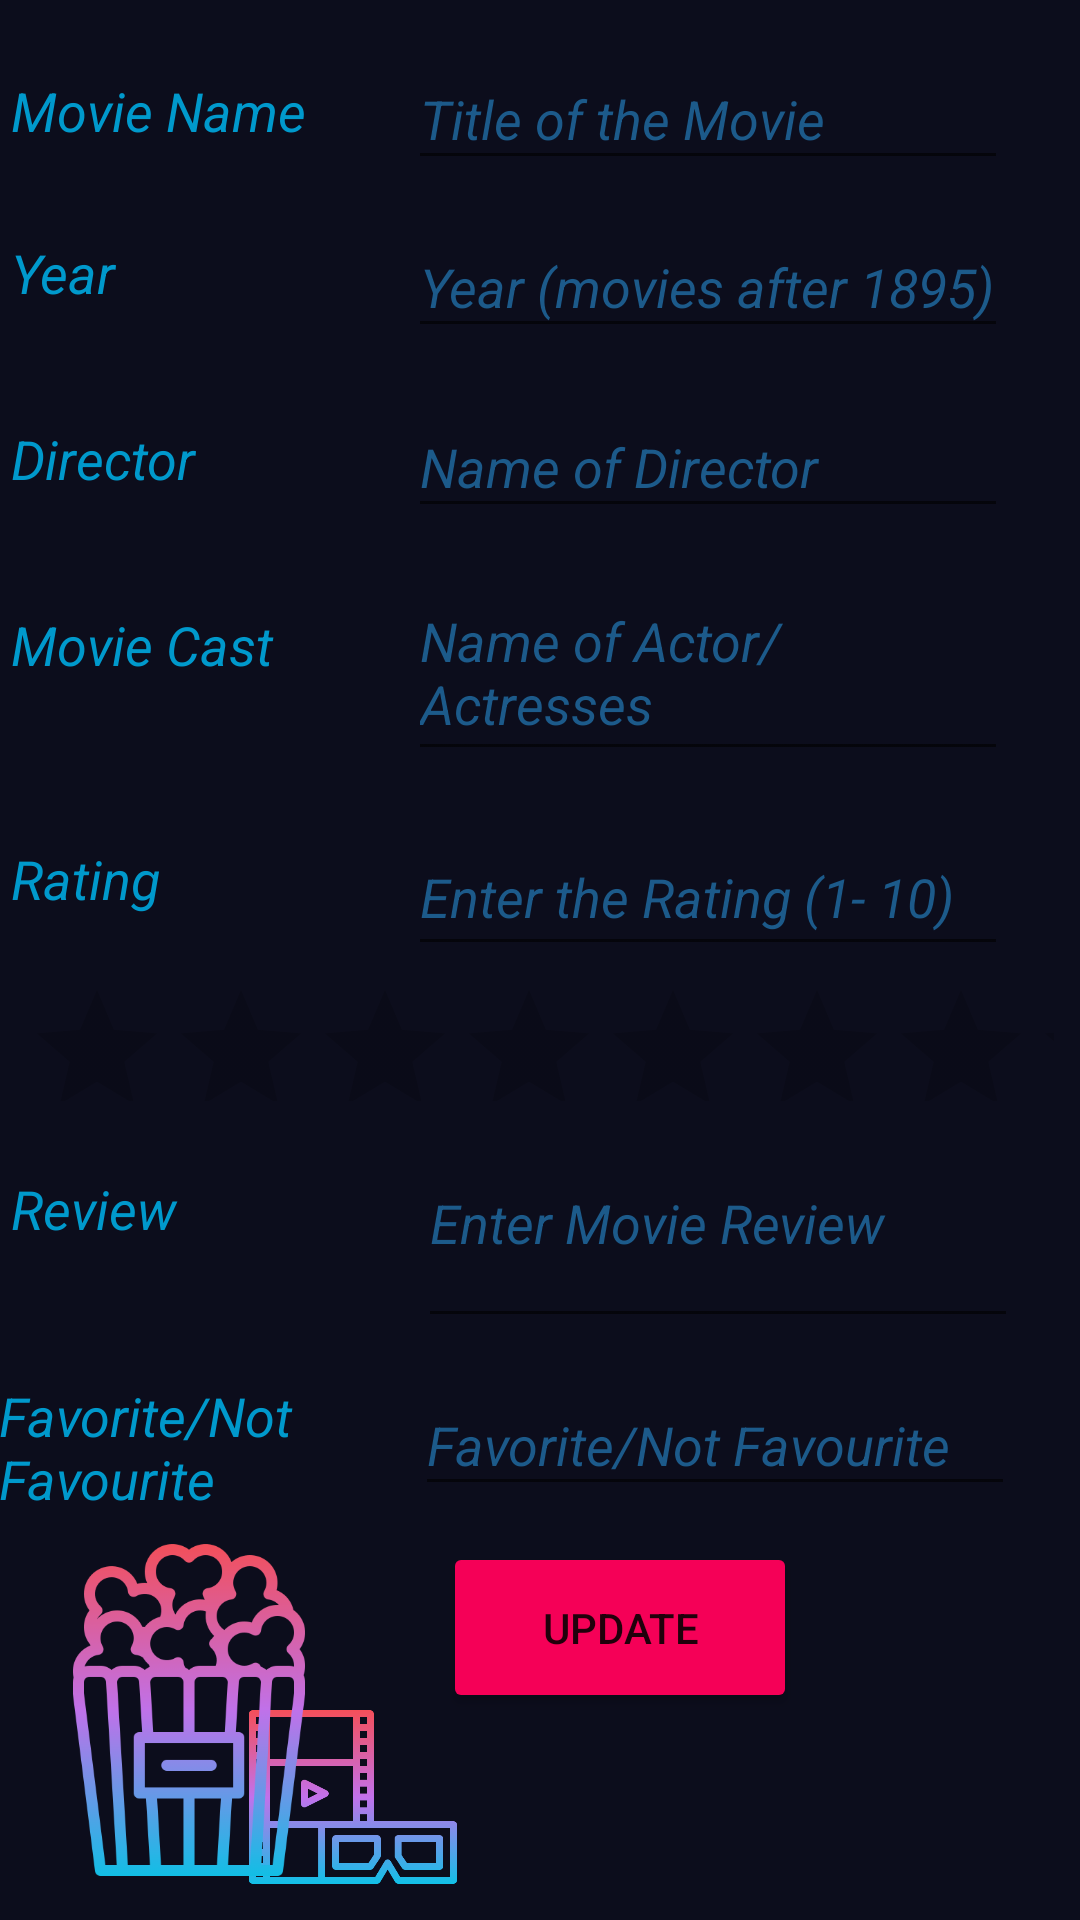

Screen size 1080px×1920px. Icon name, then its box in pixels as (x1, y1, x2, y2):
popcorn image: (73, 1544, 366, 1884)
